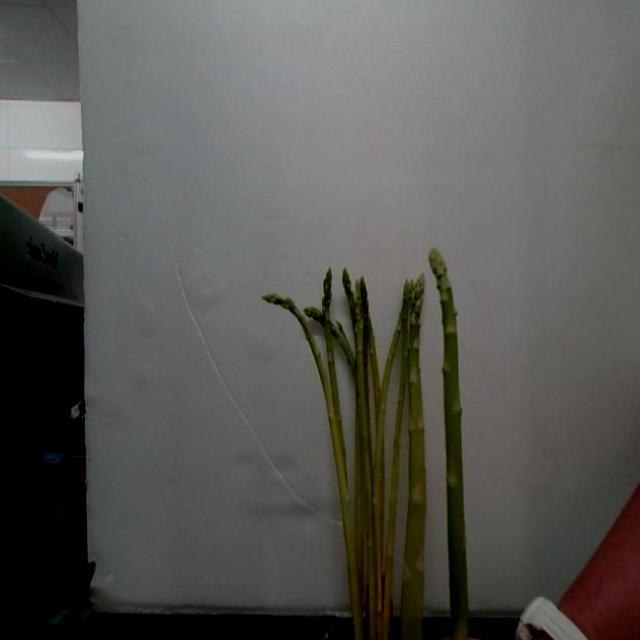aspargus: (432, 252, 468, 640)
